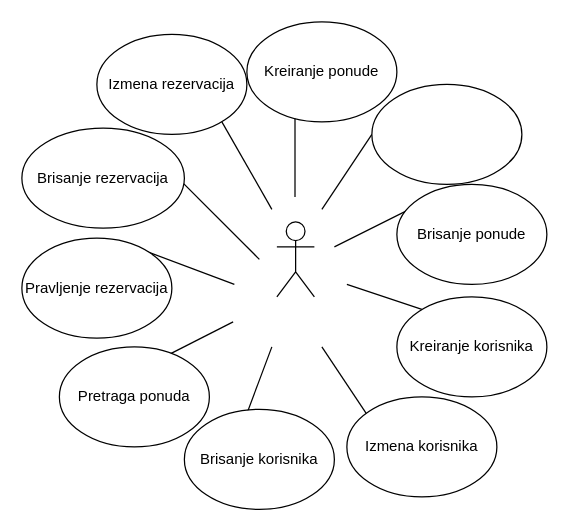
The diagram is 569 pixels wide and 531 high, and some of its shapes have lost their labels. The centre of each missing label's shape, as x and y in pixels:
"Izmena ponude" belongs at (x=446, y=133).
"Zaposleni" belongs at (x=295, y=259).
